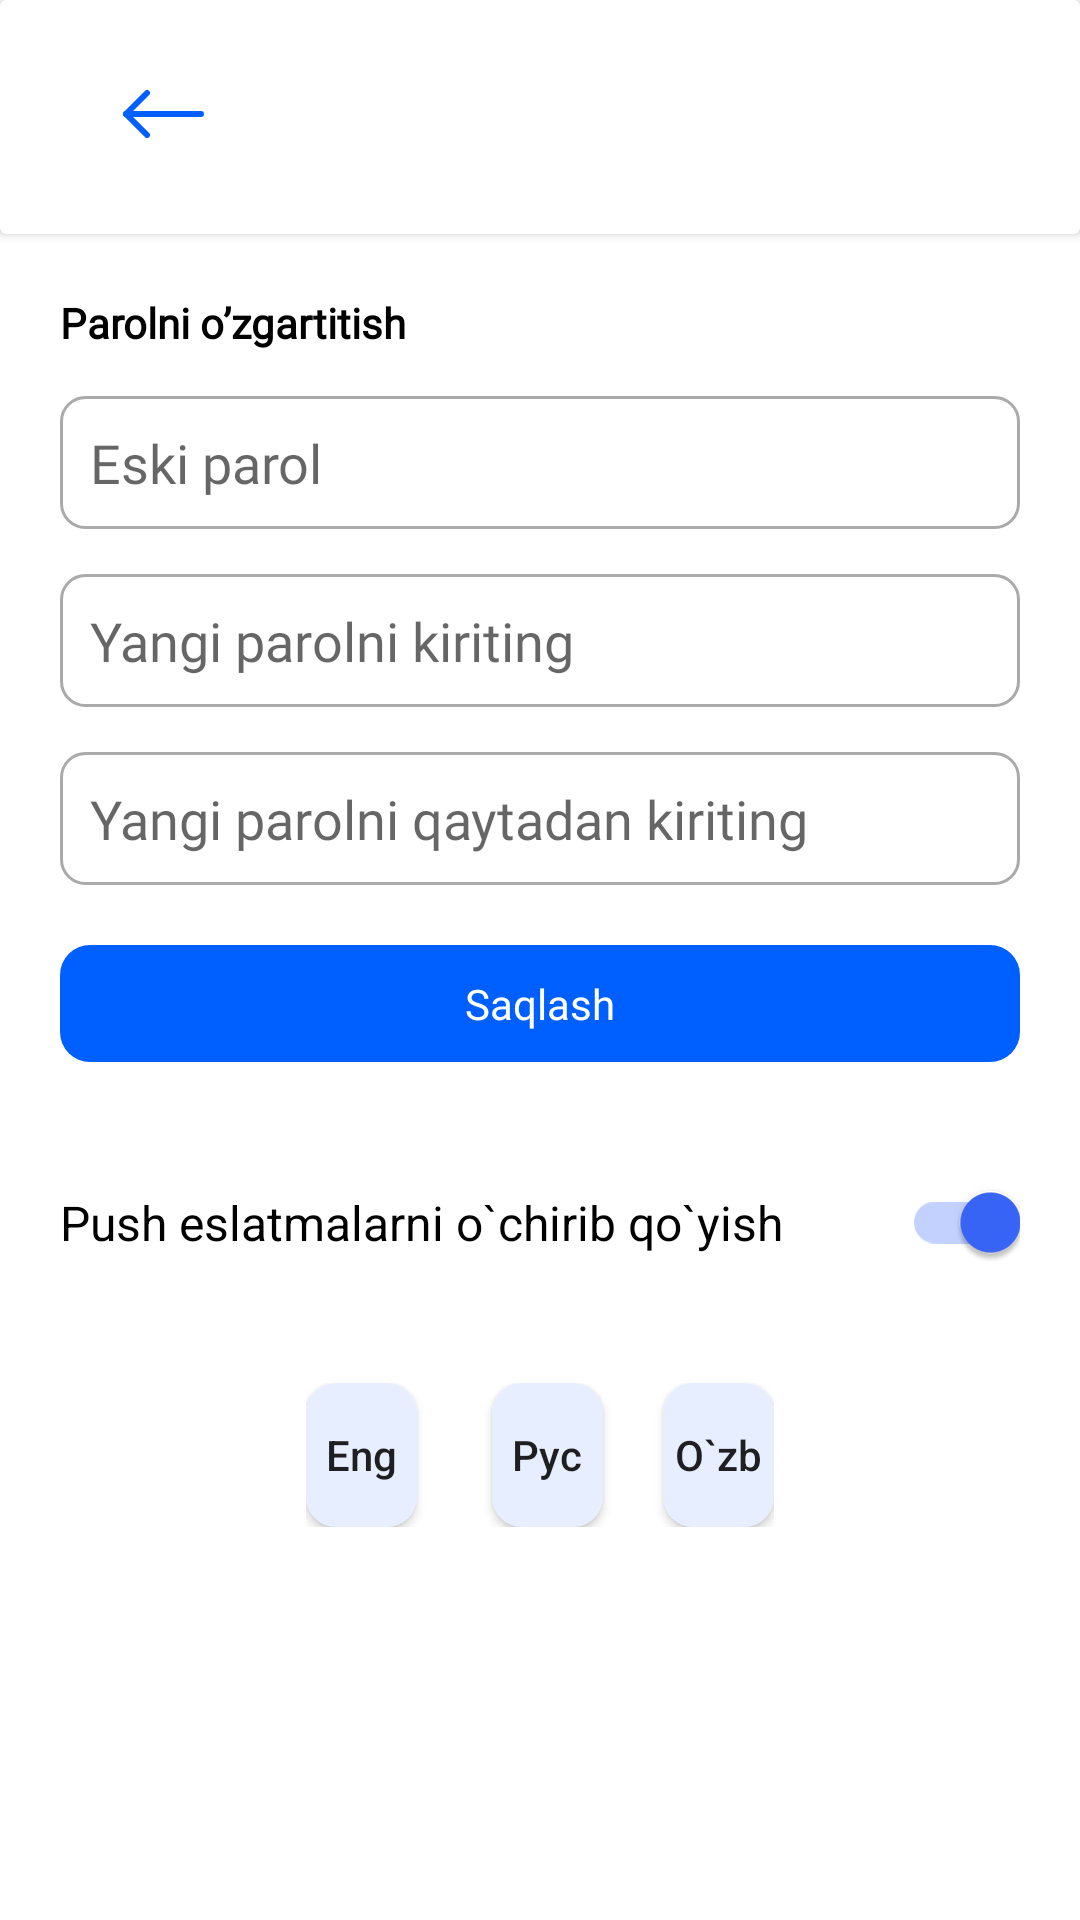

Icon click points for this 1080x1920 phone screenshot, format (x=x, y=y):
back: (x=163, y=114)
